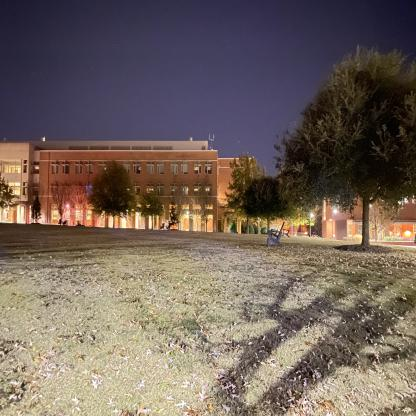eb3: (3, 130, 282, 233)
